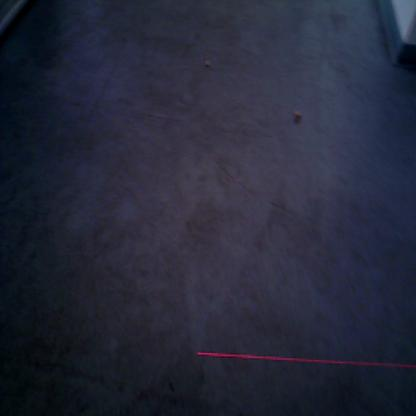dirty: (292, 109, 303, 124), (204, 59, 211, 68)
mark: (213, 156, 256, 195), (270, 200, 294, 216), (187, 32, 203, 49), (117, 97, 135, 108), (142, 36, 152, 44), (155, 38, 168, 44), (177, 96, 184, 104)
